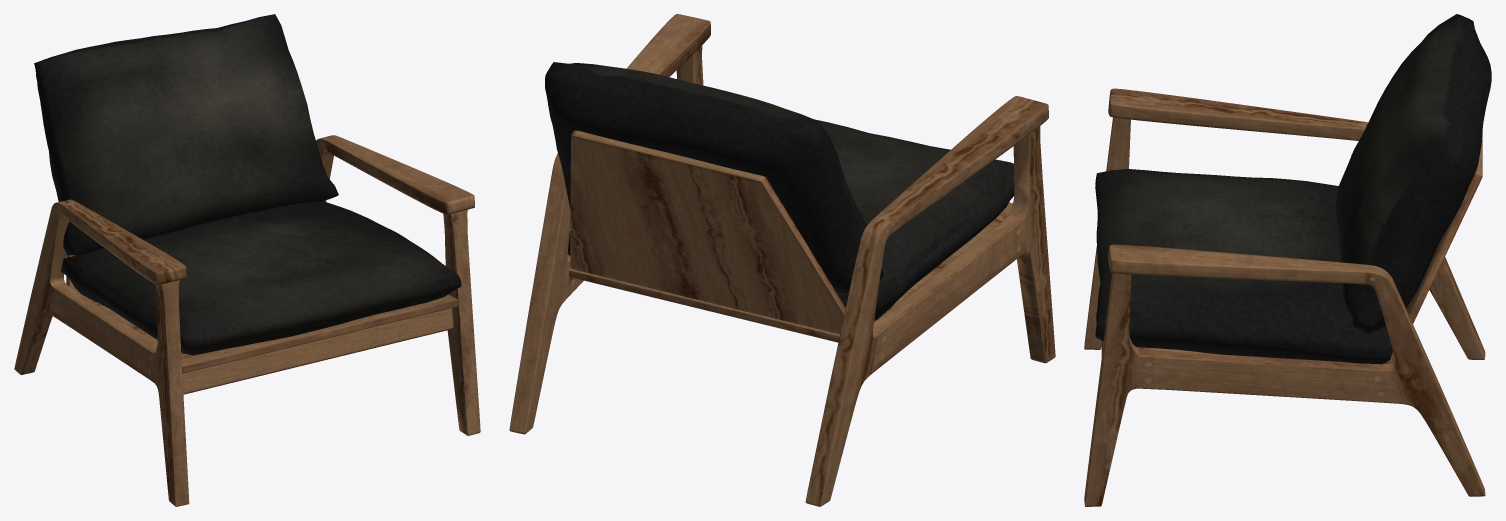
File: armchair.glb
The picture shows the model from 3 angles, left to right: view 1: azimuth 30°, elevation 25°; view 2: azimuth 150°, elevation 25°; view 3: azimuth 270°, elevation 25°; orthographic projection. The views are drawn at different scales.
Parts seen in each view (by area): view 1: modern_arm_chair_01; view 2: modern_arm_chair_01; view 3: modern_arm_chair_01.
Boxes of the visible parts, x1,y1,x2,y2 form: modern_arm_chair_01: [14, 14, 480, 506]; modern_arm_chair_01: [509, 14, 1055, 506]; modern_arm_chair_01: [1084, 14, 1491, 506].
Size of the model in its own units: 0.85 by 0.8 by 0.85.
2 materials, 2 textured.
